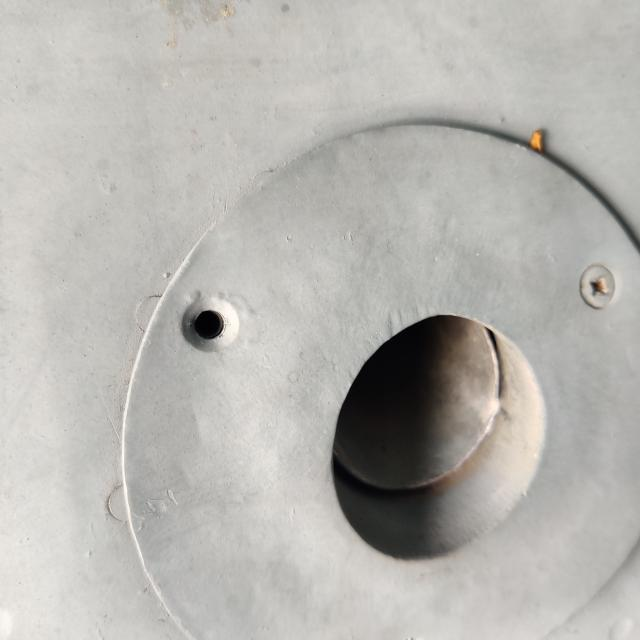missing-head: (158, 269, 264, 382)
